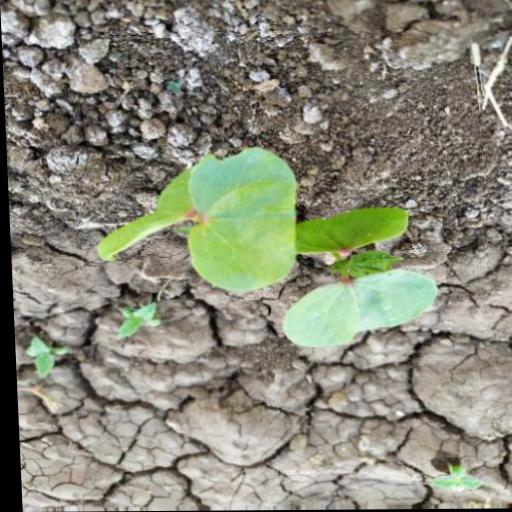weed: (90, 118, 435, 362)
